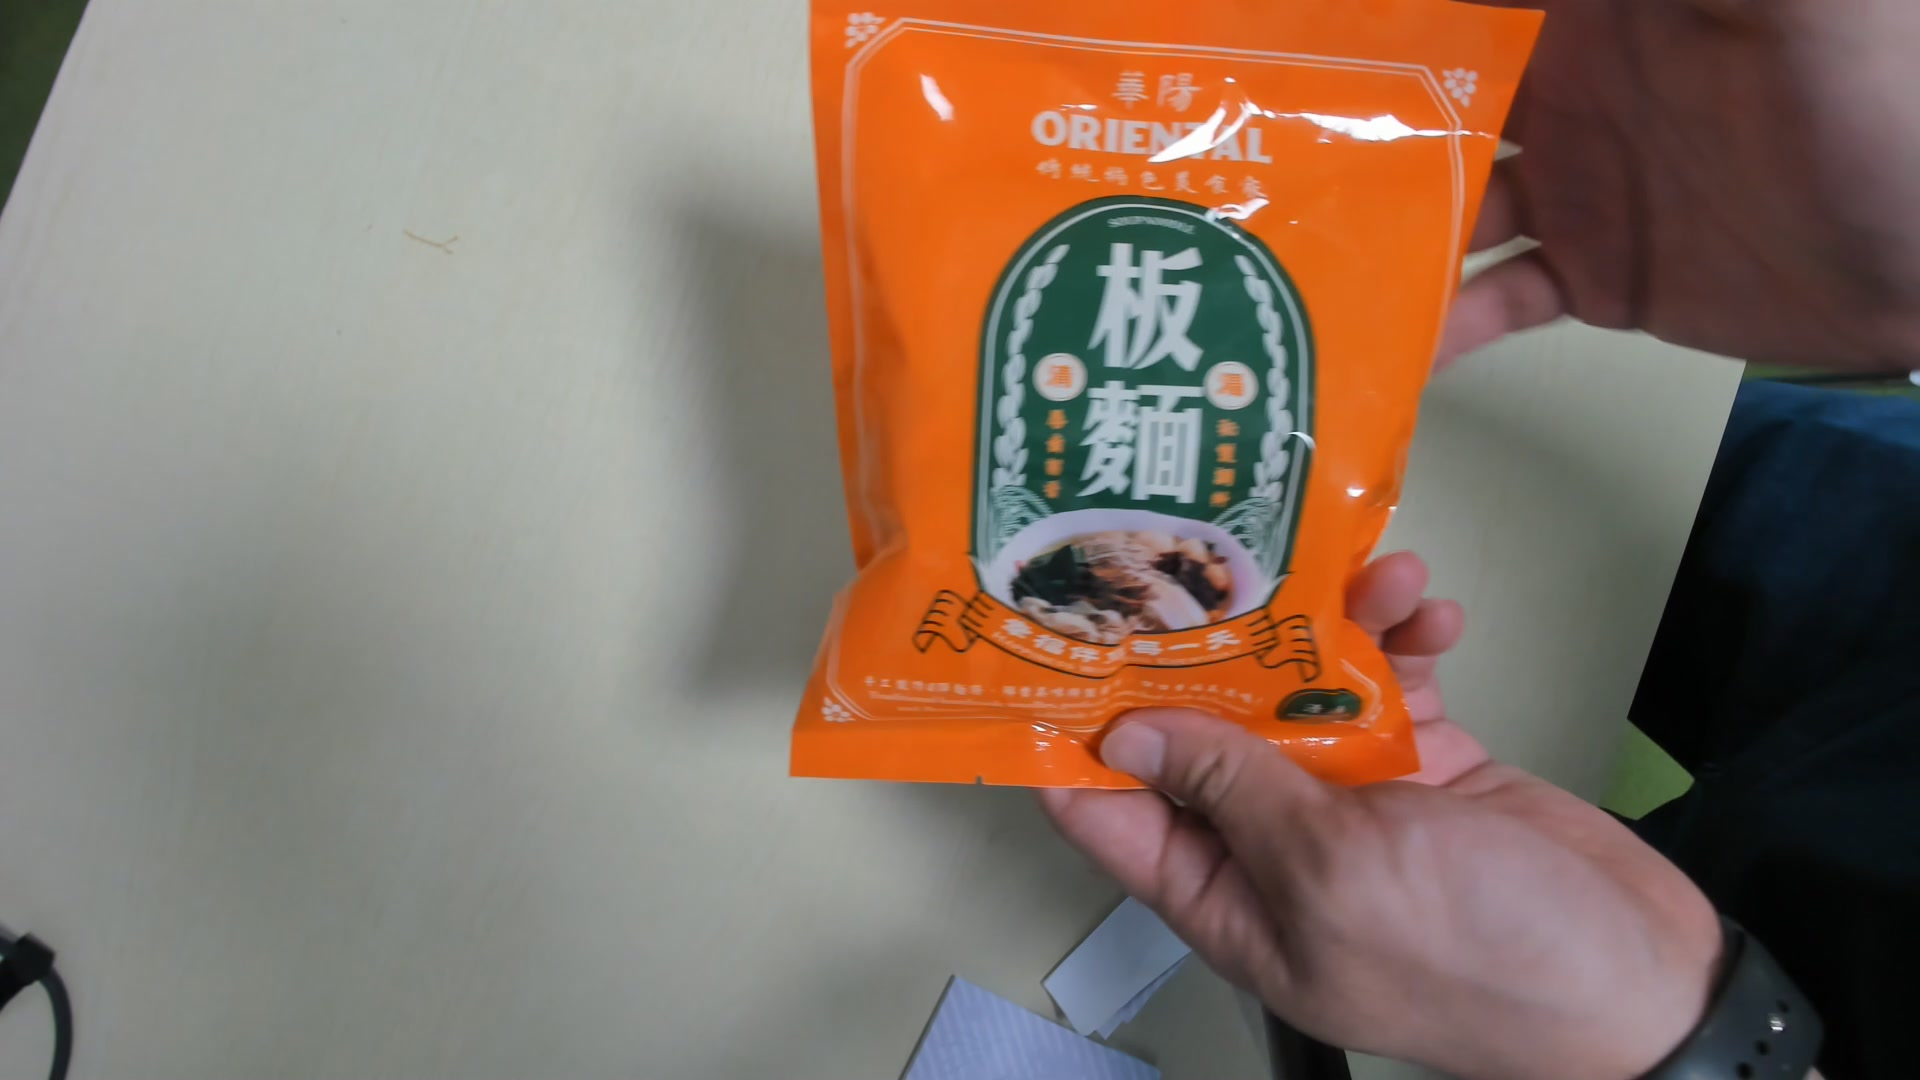InstantMeals_100-199g_NonHalal_Healthy: (794, 1, 1549, 787)
